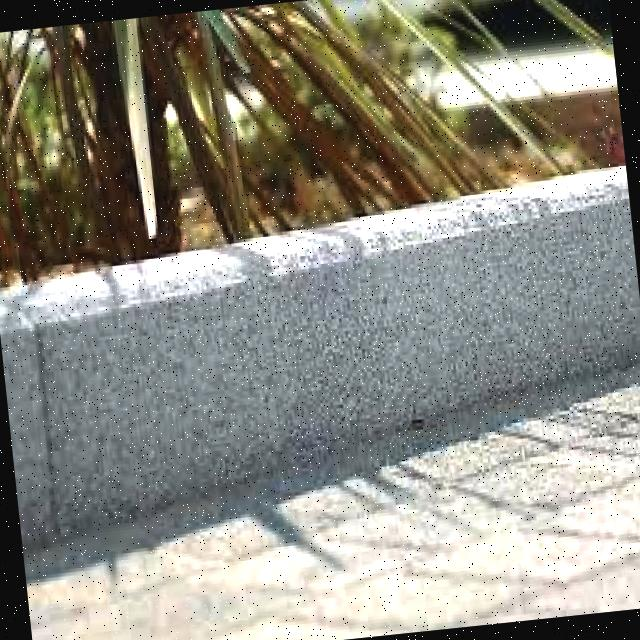curb: (1, 163, 640, 547)
